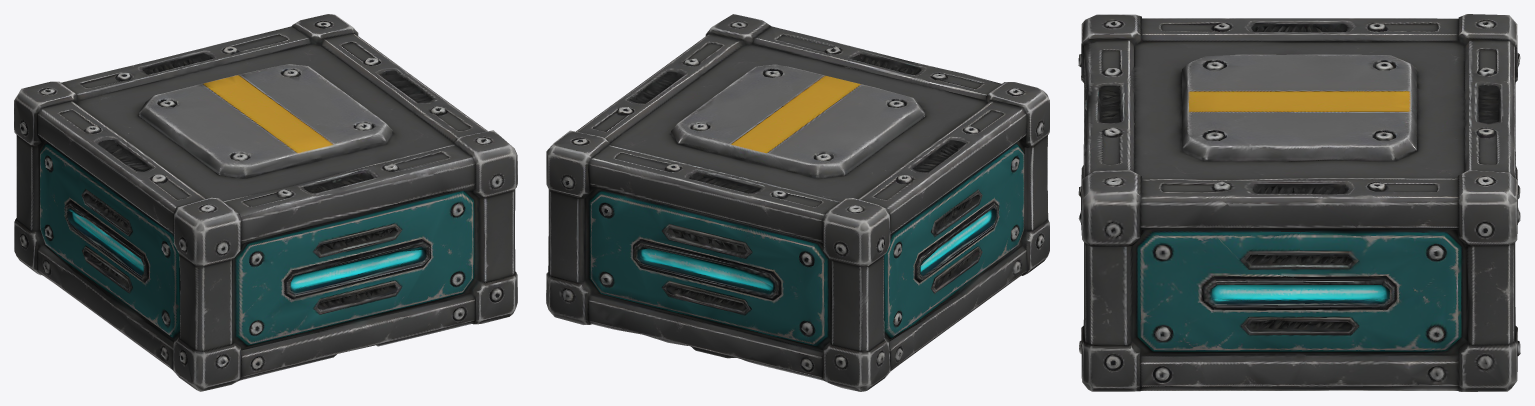
The model's file is prop_crate.glb.
The picture shows the model from 3 angles, left to right: view 1: azimuth 30°, elevation 25°; view 2: azimuth 150°, elevation 25°; view 3: azimuth 270°, elevation 25°; orthographic projection. The views are drawn at different scales.
Parts seen in each view (by area): view 1: tripo_node_c4cd57a4-3bec-4585-8a1c-b865e4969c1a; view 2: tripo_node_c4cd57a4-3bec-4585-8a1c-b865e4969c1a; view 3: tripo_node_c4cd57a4-3bec-4585-8a1c-b865e4969c1a.
Part boxes in pixels (x1,y1,x2,y2): tripo_node_c4cd57a4-3bec-4585-8a1c-b865e4969c1a: (14, 14, 517, 391); tripo_node_c4cd57a4-3bec-4585-8a1c-b865e4969c1a: (546, 14, 1049, 391); tripo_node_c4cd57a4-3bec-4585-8a1c-b865e4969c1a: (1078, 14, 1520, 391).
Size of the model in its own units: 0.98 by 0.5061 by 0.9795.
1 material, 1 textured.
